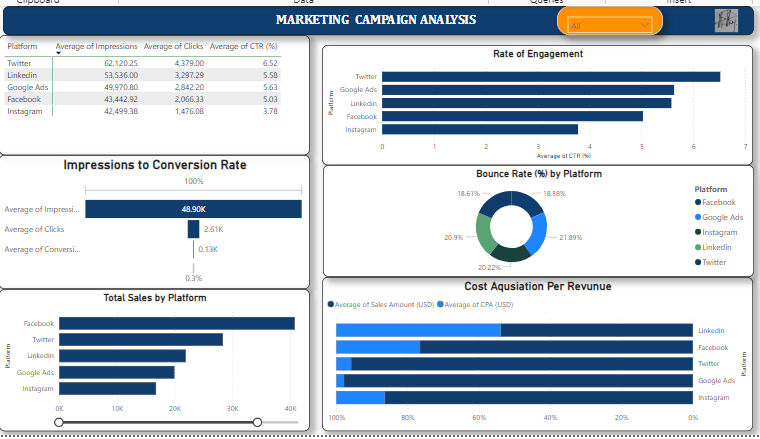

The dashboard page shown, as its layout file describes it:
{"tool":"powerbi","page":{"name":"Page 1","canvas":[1280,720],"ordinal":0},"visuals":[{"type":"pivotTable","fields":{"Rows":["marketing_data.Platform"],"Values":["Avg(marketing_data.Impressions)","Avg(marketing_data.Clicks)","Avg(marketing_data.CTR (%))"]},"box":[0,48.7,522.4,201.6],"z":0},{"type":"funnel","title":"Impressions to Conversion Rate ","fields":{"Y":["Avg(marketing_data.Impressions)","Avg(marketing_data.Clicks)","Avg(marketing_data.Conversions)"]},"box":[0,250.3,522.4,225.1],"z":1000},{"type":"hundredPercentStackedBarChart","title":"Cost Aqusiation Per Revunue ","fields":{"Category":["marketing_data.Platform"],"Y":["Avg(sales_record.Sales Amount (USD))","Avg(marketing_data.CPA (USD))"]},"box":[542.6,455.2,724,258.7],"z":2000},{"type":"clusteredBarChart","title":"Total Sales by Platform","fields":{"Category":["marketing_data.Platform"],"Y":["Date.Total_sales"]},"box":[0,475.4,522.4,238.5],"z":3000},{"type":"barChart","title":"Rate of Engagement ","fields":{"Y":["Avg(marketing_data.CTR (%))"],"Category":["marketing_data.Platform"]},"box":[542.6,65.5,724,201.6],"z":4000},{"type":"donutChart","title":"Bounce Rate (%) by Platform","fields":{"Category":["marketing_data.Platform"],"Y":["Avg(marketing_data.Bounce Rate (%))"]},"box":[544.3,267.1,724,188.1],"z":5000},{"type":"textbox","box":[6.1,0,1261.2,49],"z":6000},{"type":"image","box":[1177.6,0,89.8,49],"z":7000},{"type":"slicer","fields":{"Values":["sales_record.Salesperson ID"]},"box":[936.7,0,177.6,49],"z":8000}]}

Visuals, with their boxes in screenshot pixels (x1, y1, x2, y2):
pivotTable - marketing_data.Platform x Avg(marketing_data.Impressions): bbox(0, 32, 307, 154)
"Impressions to Conversion Rate " funnel: bbox(0, 154, 307, 291)
"Cost Aqusiation Per Revunue " hundredPercentStackedBarChart: bbox(319, 278, 759, 435)
"Total Sales by Platform" clusteredBarChart: bbox(0, 291, 307, 435)
"Rate of Engagement " barChart: bbox(319, 42, 759, 164)
"Bounce Rate (%) by Platform" donutChart: bbox(321, 164, 759, 278)
textbox: bbox(0, 2, 759, 32)
image: bbox(705, 2, 759, 32)
slicer - sales_record.Salesperson ID: bbox(559, 2, 667, 32)
